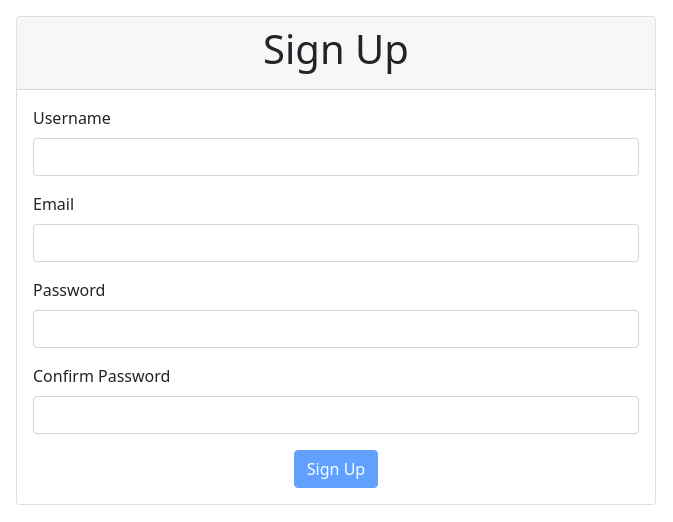
Sign Up Page › Interactions › enables the button when password inputs have the same value
Type "user1" into the field labelled "Username". click: x=336, y=157
box: [33,138,639,176]
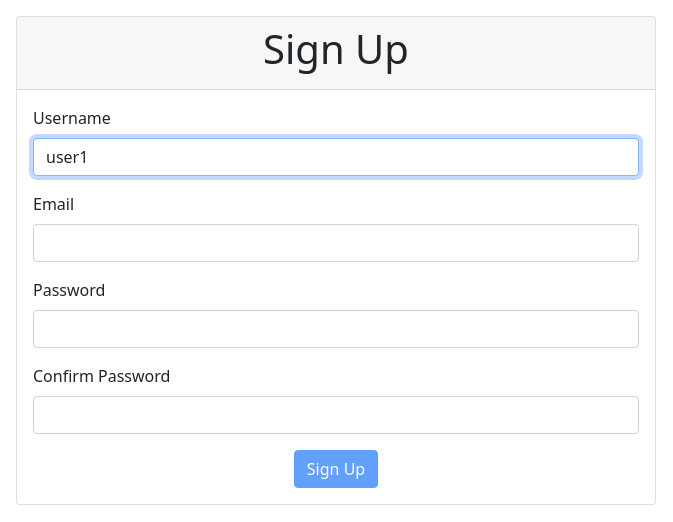
Type "user1@test.com" into the field labelled "Email". click: x=336, y=243
box: [33,224,639,262]
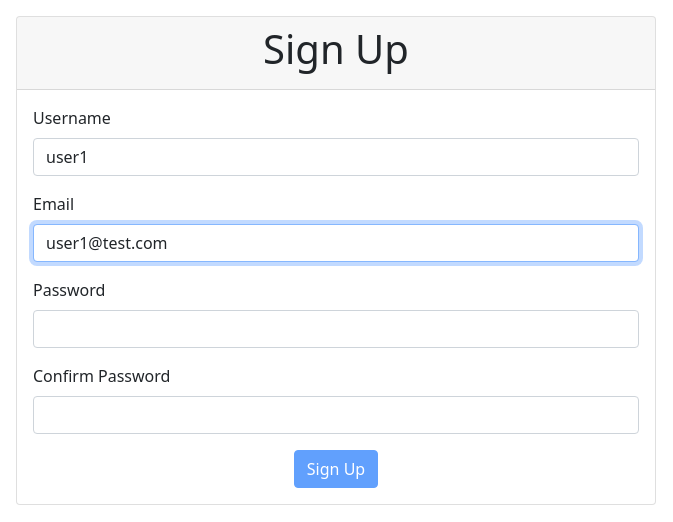
Type "P" into the password field labelled "Password". click: x=336, y=329
box: [33,310,639,348]
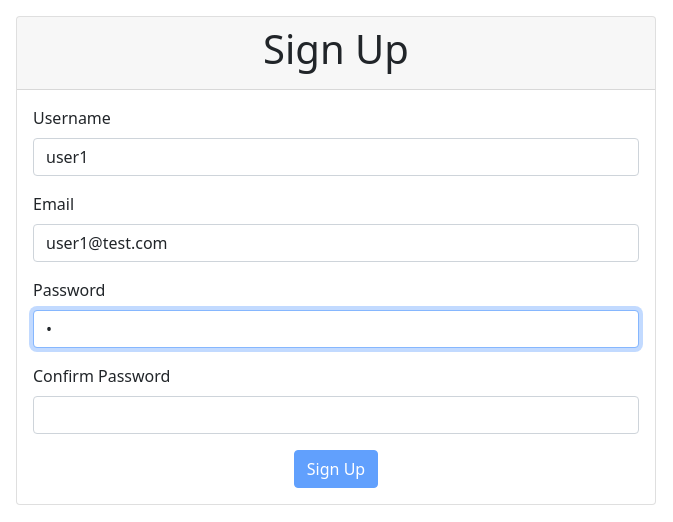
Type "P" into the password field labelled "Confirm Password". click: x=336, y=415
box: [33,396,639,434]
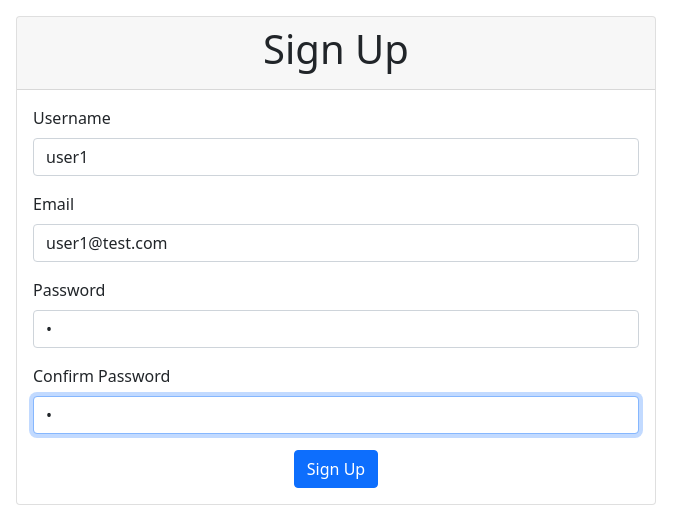
Expected: the button "Sign Up" is enabled, [294,450,378,488]
